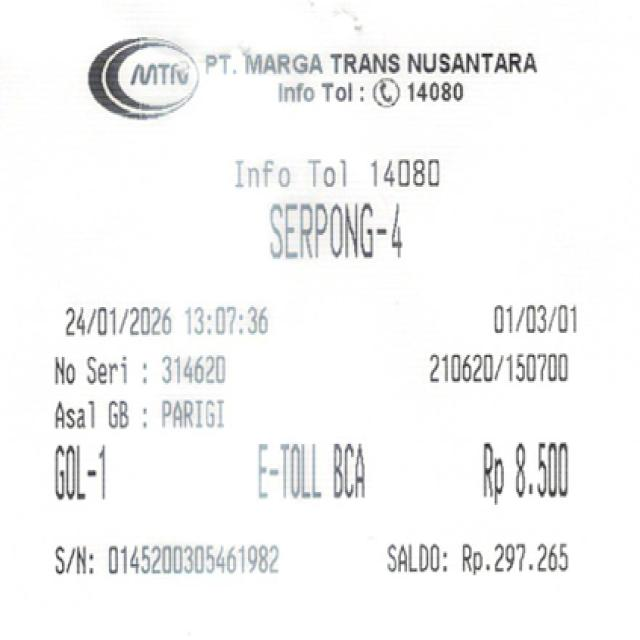date: (62, 299, 276, 342)
store: (206, 47, 537, 81)
total: (467, 433, 579, 508)
